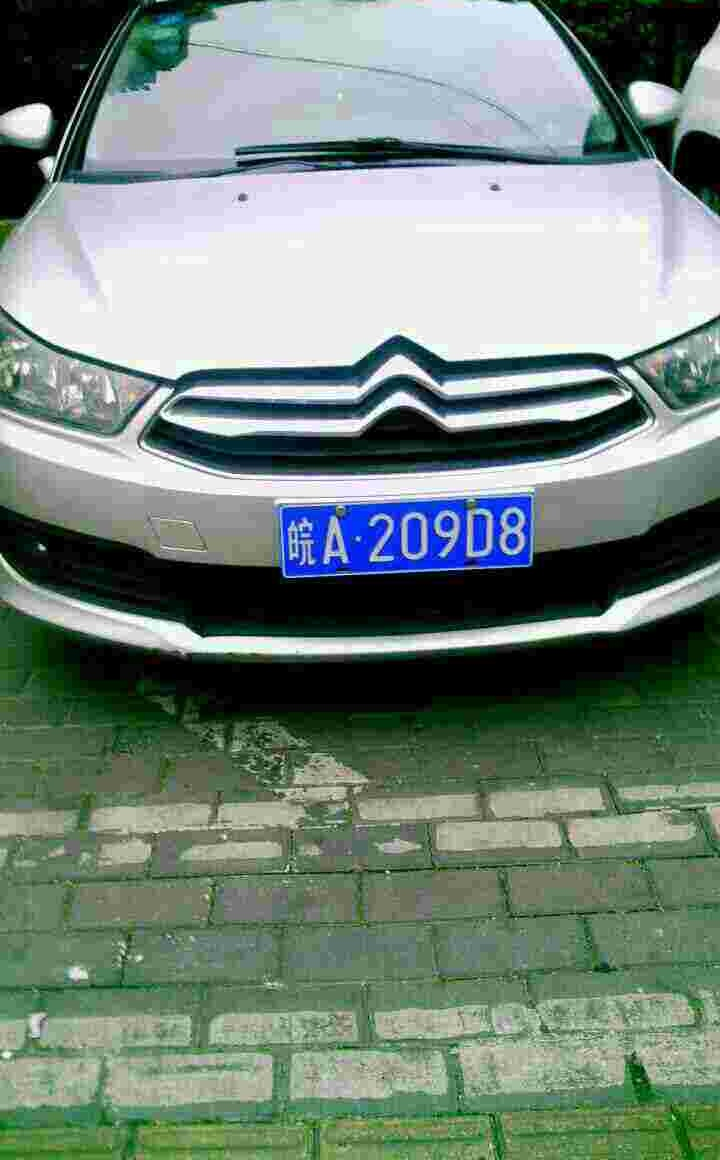license_plate: (284, 494, 546, 582)
